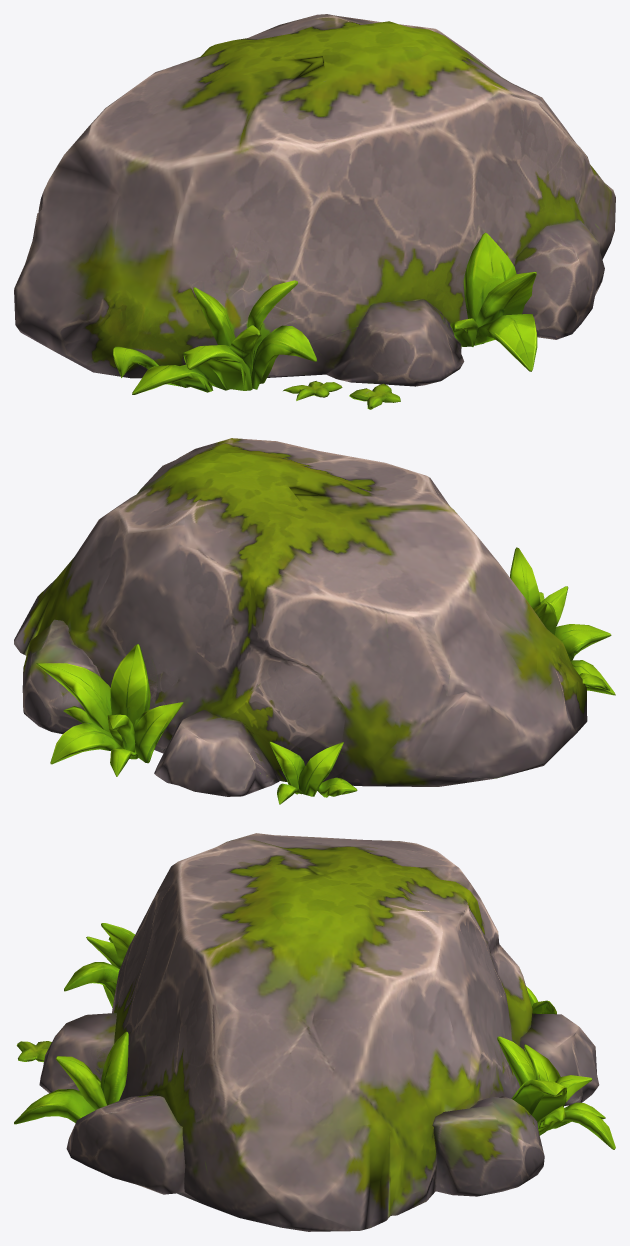
The model's file is Meshy_AI_Mossy_Boulder_1005033408_texture.glb.
The picture shows the model from 3 angles, top to bottom: view 1: azimuth 30°, elevation 25°; view 2: azimuth 150°, elevation 25°; view 3: azimuth 270°, elevation 25°; orthographic projection. The views are drawn at different scales.
Visible parts, largest first — view 1: Mesh_0.001; view 2: Mesh_0.001; view 3: Mesh_0.001.
Part boxes in pixels (x1,y1,x2,y2): Mesh_0.001: (14, 14, 615, 409); Mesh_0.001: (14, 438, 615, 804); Mesh_0.001: (14, 833, 615, 1231).
Bounding box in the file's own units: 0.1055 × 0.04 × 0.096.
Materials: 1 (1 with a texture image).
